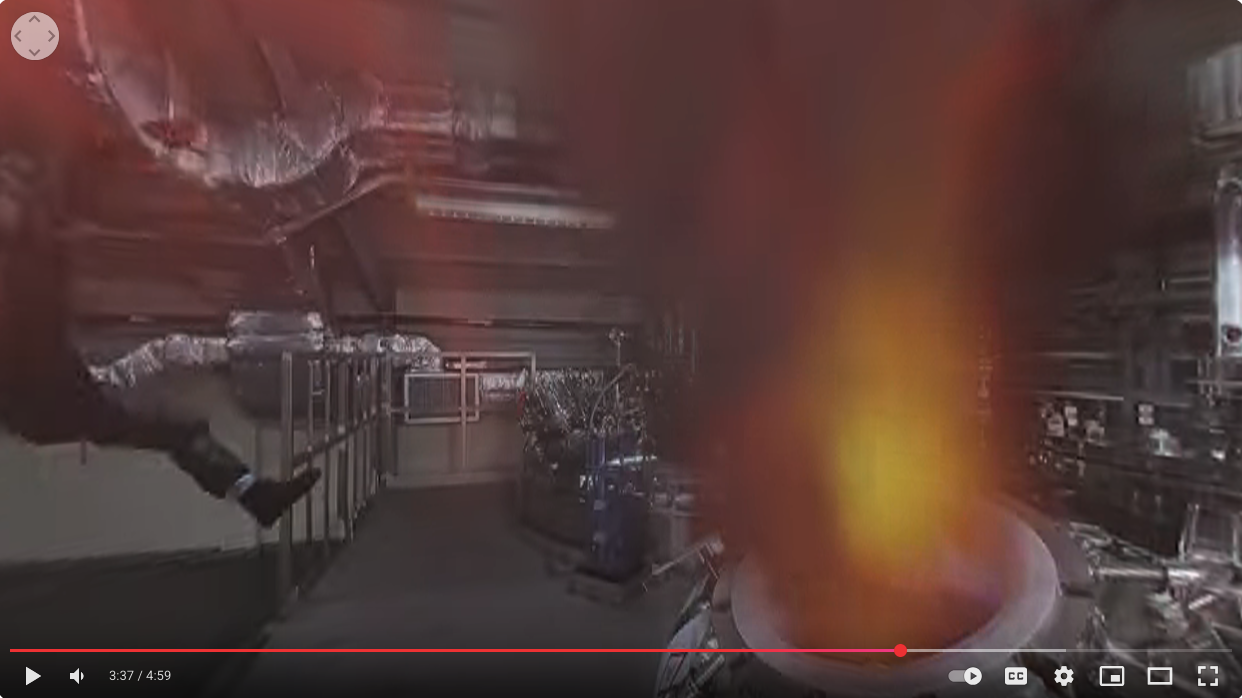fire: (621, 70, 1070, 649)
